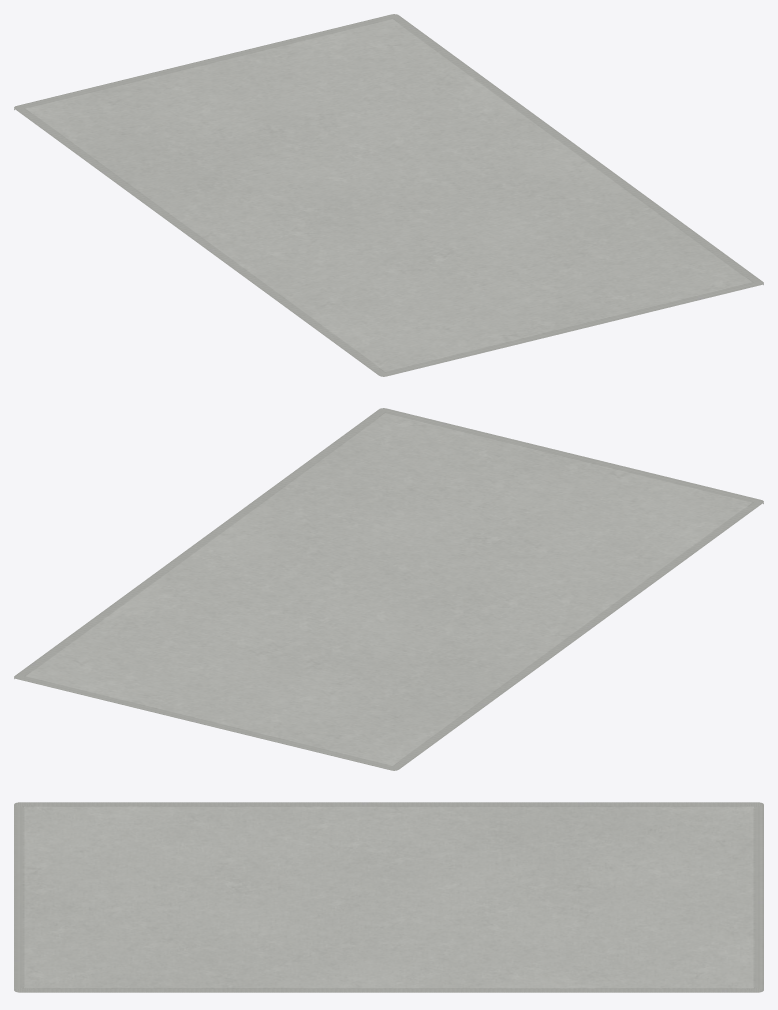
Rendered from gray_widehall.glb.
The picture shows the model from 3 angles, top to bottom: view 1: azimuth 30°, elevation 25°; view 2: azimuth 150°, elevation 25°; view 3: azimuth 270°, elevation 25°; orthographic projection.
Visible parts, largest first — view 1: reliv_gray_widehall; view 2: reliv_gray_widehall; view 3: reliv_gray_widehall.
Boxes of the visible parts, box(x1,y1,x2,y2) form: reliv_gray_widehall: box(14, 14, 763, 376); reliv_gray_widehall: box(14, 408, 763, 770); reliv_gray_widehall: box(14, 802, 763, 992).
Bounding box in the file's own units: 1.2 × 0.009 × 2.
2 materials, 1 textured.
